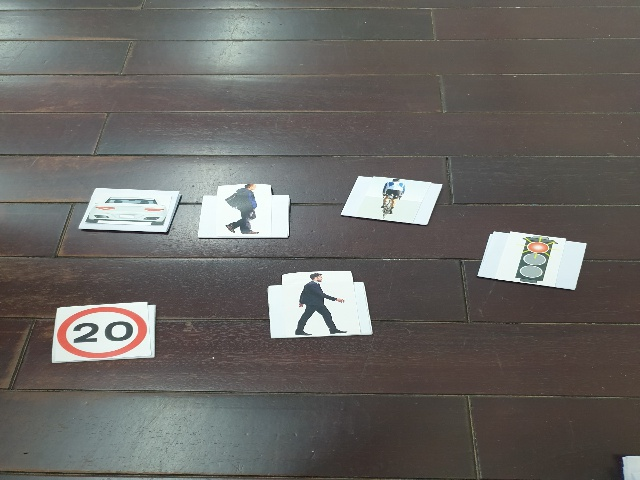Car: (87, 194, 168, 231)
Cyclist: (372, 177, 410, 219)
Limit 20: (57, 306, 149, 359)
Person: (291, 273, 351, 339), (222, 184, 270, 236)
Red Light: (511, 233, 558, 286)
